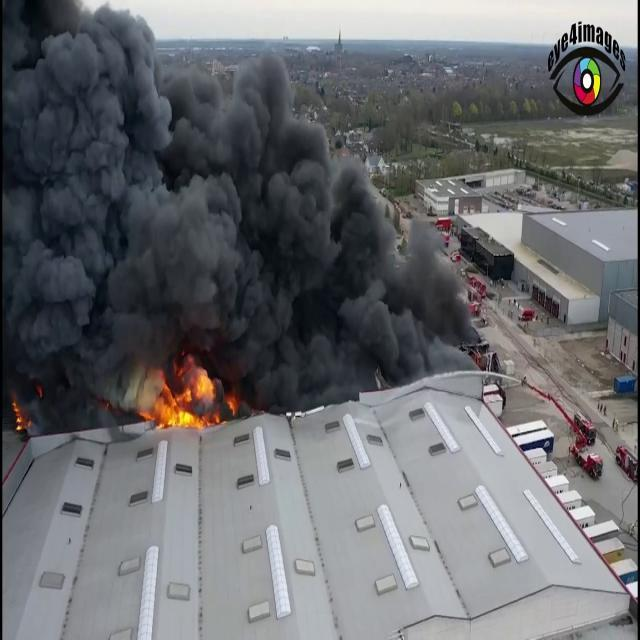Fire: (132, 354, 218, 428)
Smoke: (1, 23, 477, 390)
